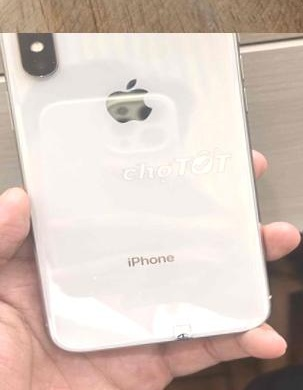scratch: (33, 71, 50, 82)
